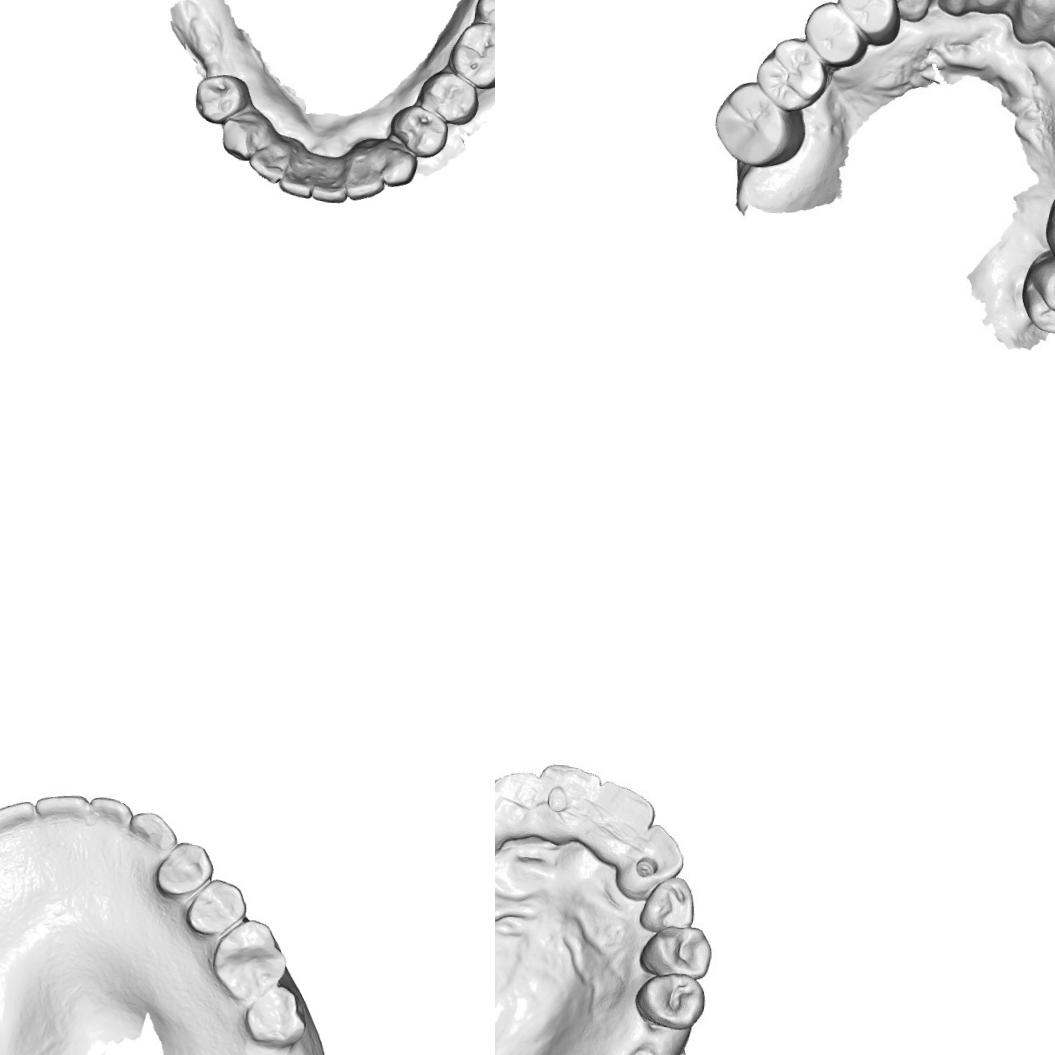canine: (126, 796, 178, 862), (643, 872, 699, 932), (218, 106, 274, 164), (378, 147, 419, 190), (885, 0, 932, 16)
incisor: (530, 760, 594, 836), (589, 780, 656, 849), (620, 822, 683, 888), (31, 774, 91, 834), (495, 768, 541, 841), (86, 792, 136, 840), (246, 134, 292, 186), (0, 789, 39, 843), (344, 158, 386, 202), (276, 154, 315, 200), (308, 164, 348, 206), (1015, 0, 1055, 37)
molar: (204, 914, 293, 1007), (711, 80, 789, 164), (754, 34, 826, 110), (238, 980, 311, 1050), (446, 18, 495, 91), (1027, 255, 1055, 343)
premolar: (152, 836, 220, 904), (637, 970, 710, 1030), (184, 876, 248, 944), (414, 67, 482, 127), (642, 921, 712, 978), (386, 102, 450, 160), (192, 70, 250, 126), (802, 0, 858, 58), (838, 0, 893, 35)
